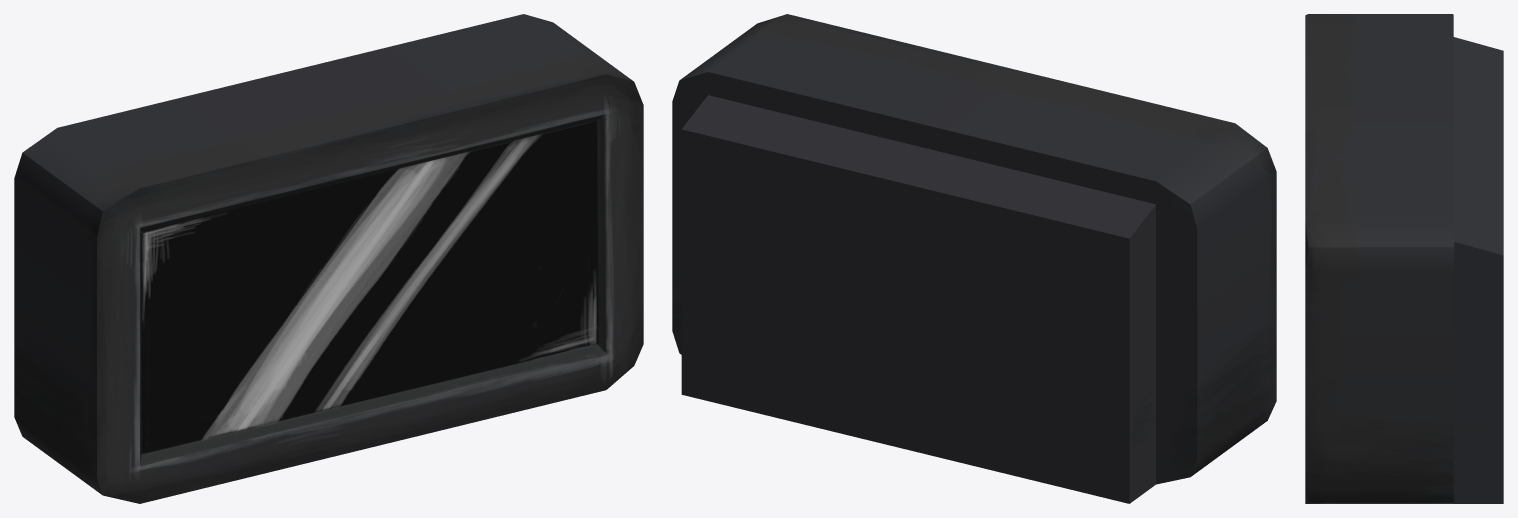
Rendered from monitor.fbx.
The picture shows the model from 3 angles, left to right: view 1: azimuth 30°, elevation 25°; view 2: azimuth 150°, elevation 25°; view 3: azimuth 270°, elevation 25°; orthographic projection. The views are drawn at different scales.
Visible parts, largest first — view 1: monitor1; view 2: monitor1; view 3: monitor1.
Boxes of the visible parts, x1,y1,x2,y2 form: monitor1: (14, 14, 643, 503); monitor1: (672, 14, 1276, 503); monitor1: (1305, 14, 1503, 503).
Bounding box in the file's own units: 57.79 × 31.91 × 20.18.
1 material, 1 textured.
